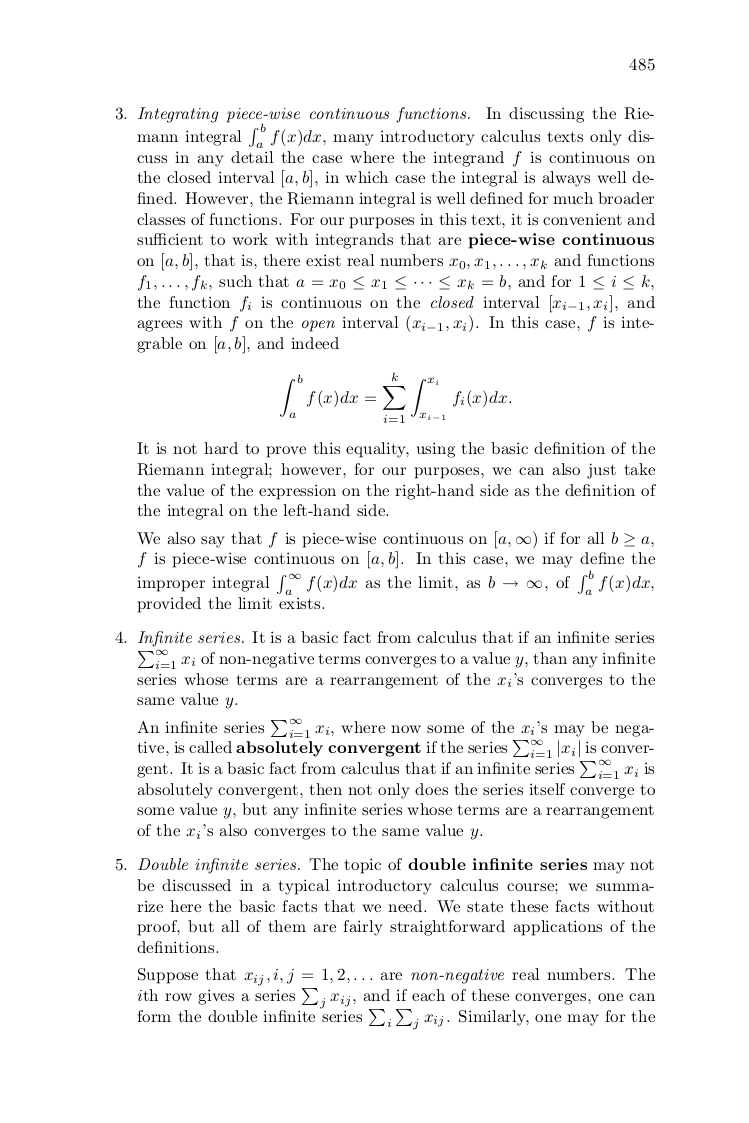formula: (280, 371, 511, 423)
